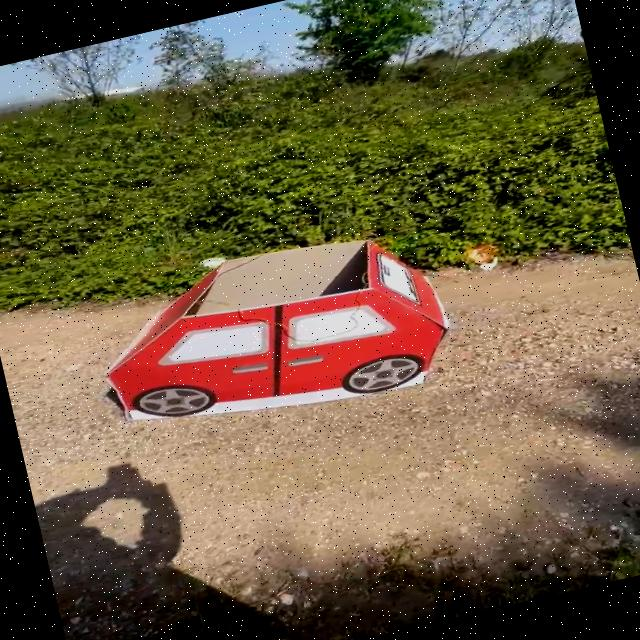red_car: (59, 203, 478, 468)
